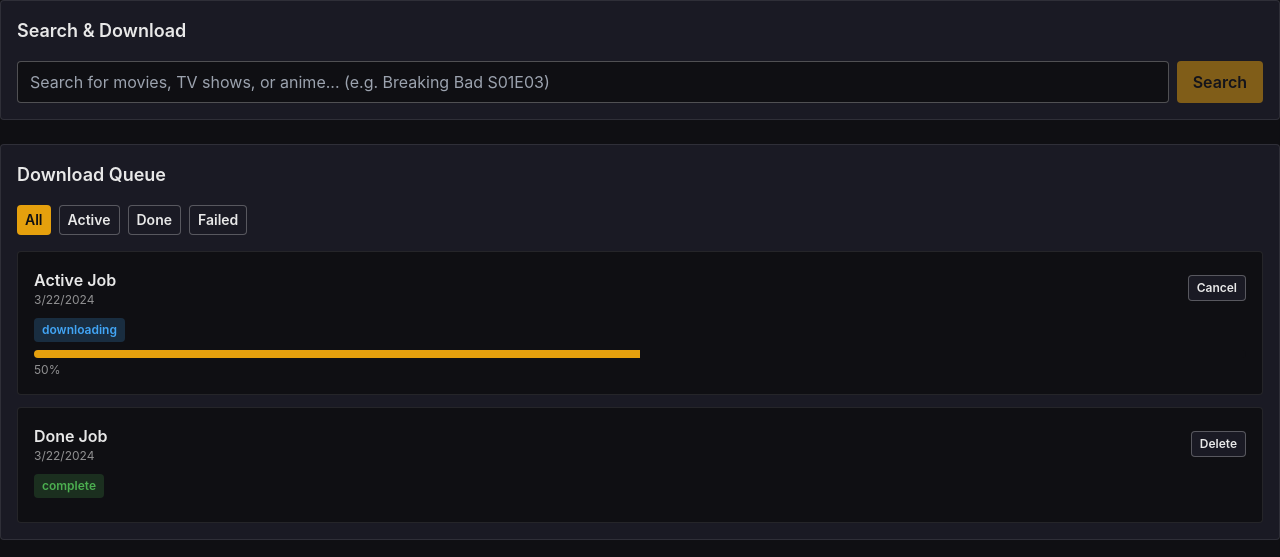
Test case: QueueTab › Job display details › should filter to show only done/complete jobs
Check: the text "Active Job" is shown, box [34, 270, 116, 290]
Step 1. Click the button "done" → [154, 220], box [128, 205, 181, 235]
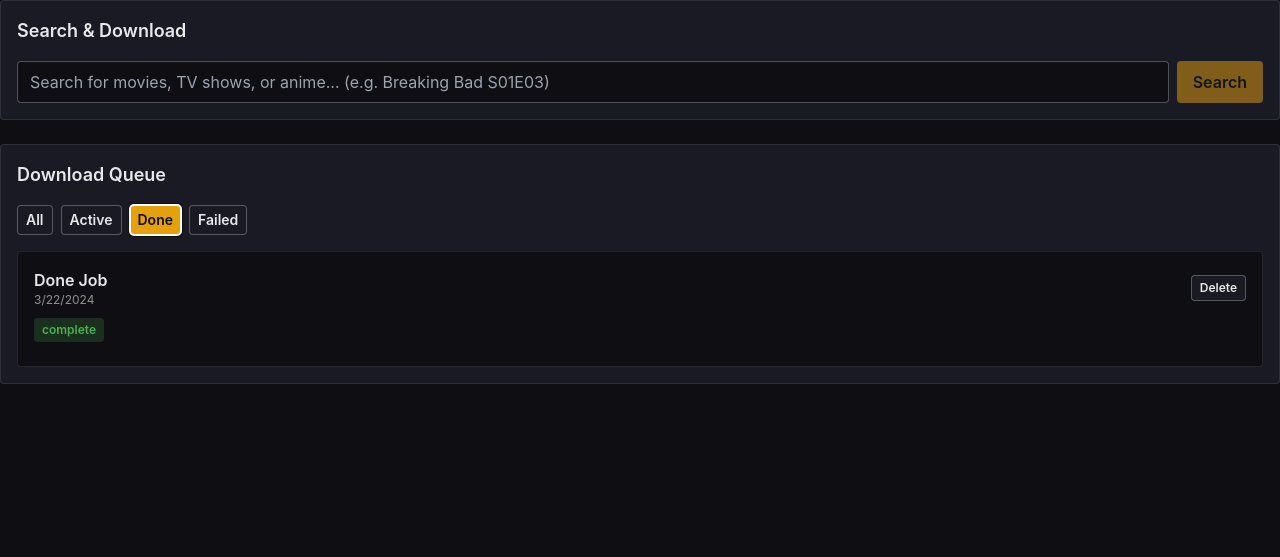
Check: the text "Done Job" is shown, box [34, 270, 108, 290]
Check: the text "Active Job" is gone
